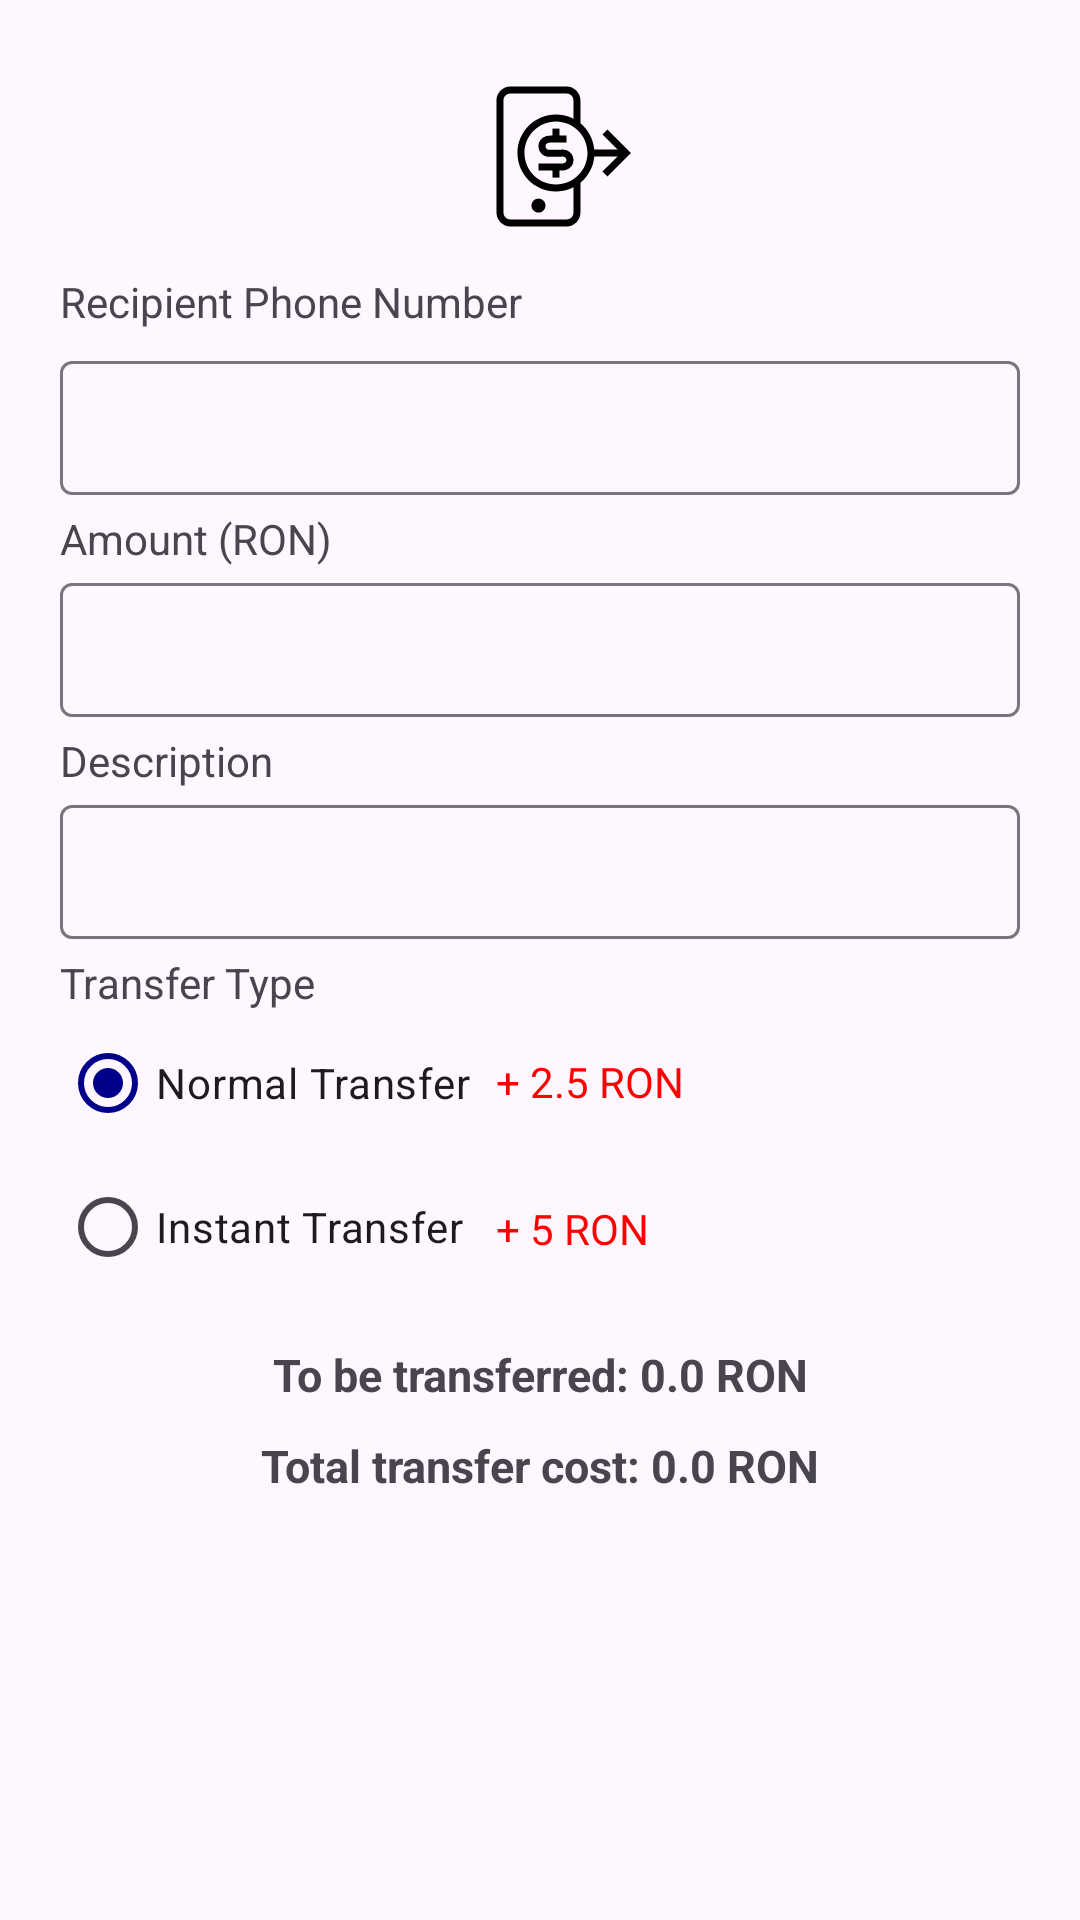

Icons on this 1080px×1920px Android screen, each with the point to tap as (x=x, y=y):
mobile transfer: (x=563, y=156)
